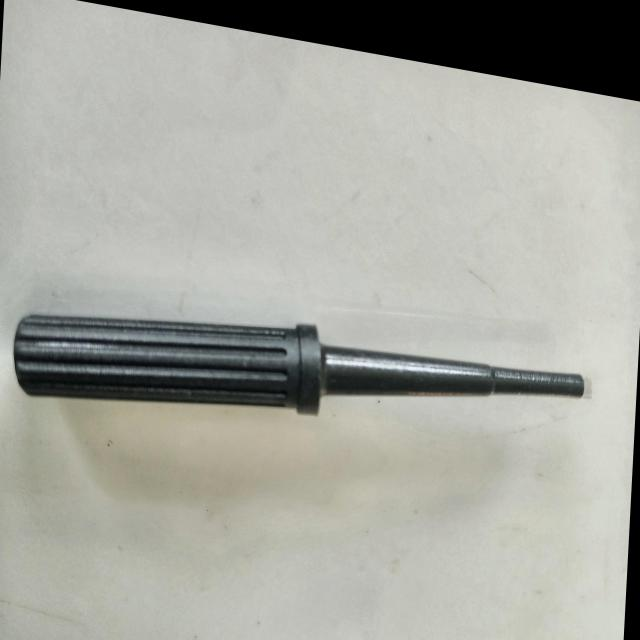Screw Driver: (0, 248, 593, 506)
